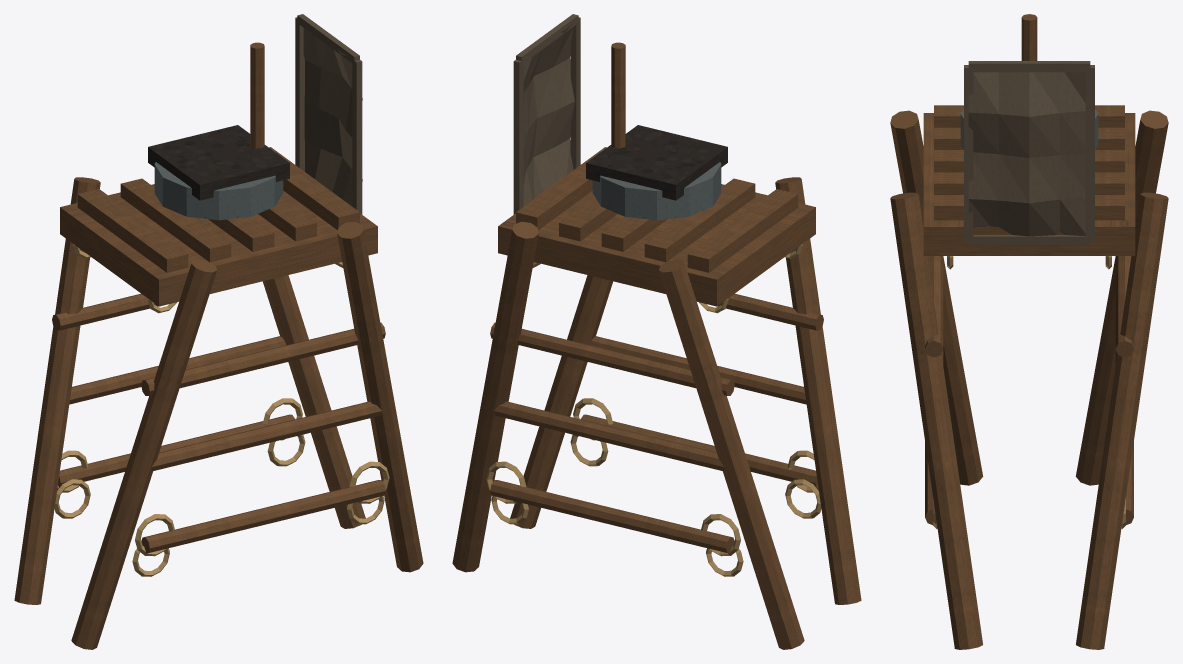
The model's file is cs-013_signal_beacon_complete.obj.
3 renders of one model, left to right at view 1: azimuth 30°, elevation 25°; view 2: azimuth 150°, elevation 25°; view 3: azimuth 270°, elevation 25°, orthographic. The views are drawn at different scales.
Visible parts, largest first — view 1: cs-013_signal_beacon_complete; view 2: cs-013_signal_beacon_complete; view 3: cs-013_signal_beacon_complete.
Part boxes in pixels (x1=…): cs-013_signal_beacon_complete: x1=14, y1=14, x2=423, y2=649; cs-013_signal_beacon_complete: x1=452, y1=14, x2=861, y2=649; cs-013_signal_beacon_complete: x1=890, y1=14, x2=1168, y2=649.
Size of the model in its own units: 1.62 by 2.37 by 1.05.
5 materials, 5 textured.
